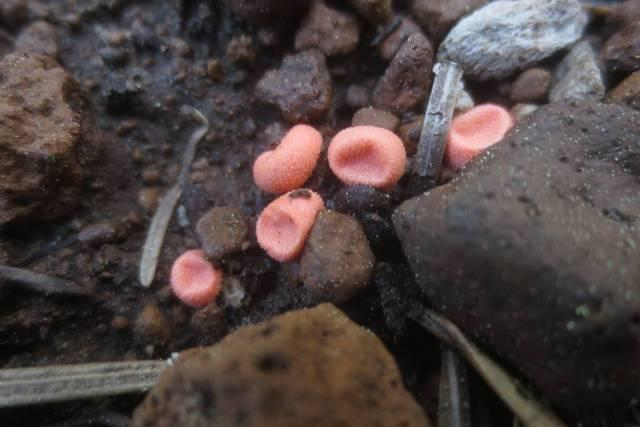poisonous_mushroom: (254, 186, 325, 262), (326, 123, 407, 189), (251, 122, 323, 193), (444, 101, 513, 170), (168, 247, 223, 307)
